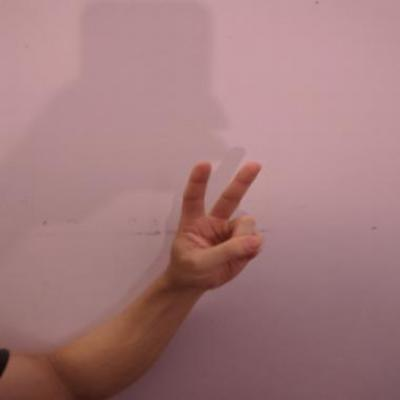hand: (163, 157, 273, 298)
